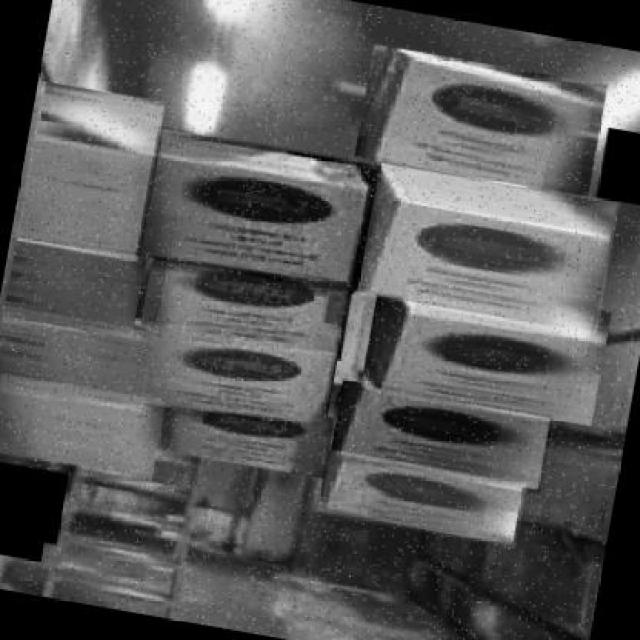box: (353, 159, 619, 336), (348, 41, 610, 201), (133, 126, 381, 294), (355, 269, 614, 429), (13, 78, 164, 262), (325, 377, 552, 492), (135, 248, 356, 363), (132, 319, 339, 439), (312, 448, 526, 548), (0, 372, 165, 480), (150, 387, 336, 481), (0, 305, 151, 420), (0, 234, 146, 341)
